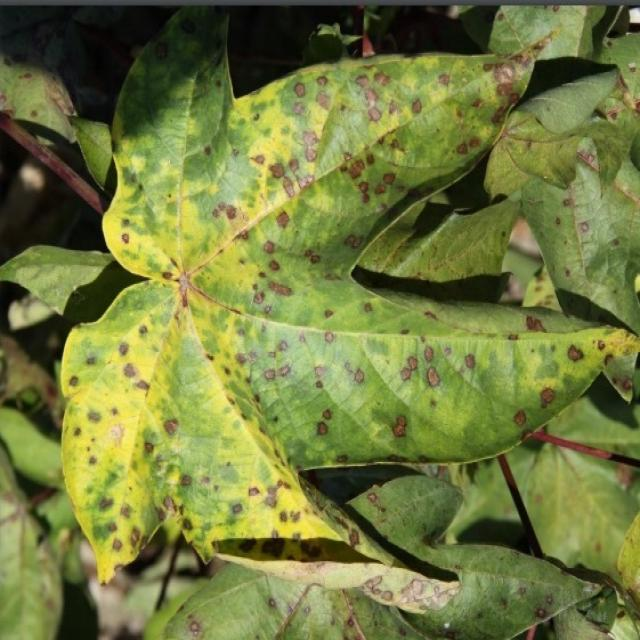Bacterial Blight: (134, 89, 392, 420)
